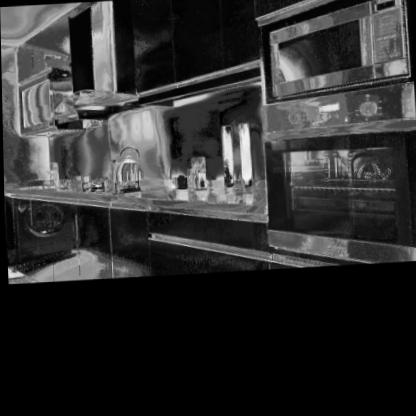Cabinet: (3, 179, 269, 284)
